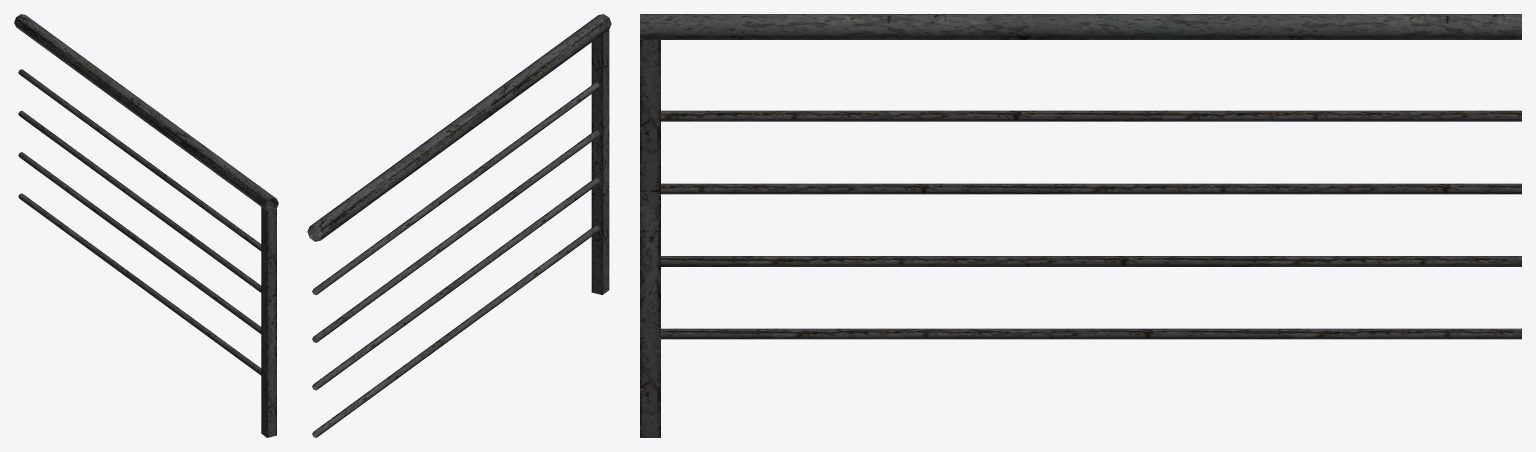
The model's file is p6_blackout_rail_64_lod0.glb.
3 renders of one model, left to right at view 1: azimuth 30°, elevation 25°; view 2: azimuth 150°, elevation 25°; view 3: azimuth 270°, elevation 25°, orthographic. The views are drawn at different scales.
Visible parts, largest first — view 1: surf0; view 2: surf0; view 3: surf0.
Boxes of the visible parts, box(x1,y1,x2,y2) form: surf0: box(14, 14, 278, 437); surf0: box(307, 14, 611, 437); surf0: box(640, 14, 1521, 437).
Bounding box in the file's own units: 1.99 × 33.59 × 64.
